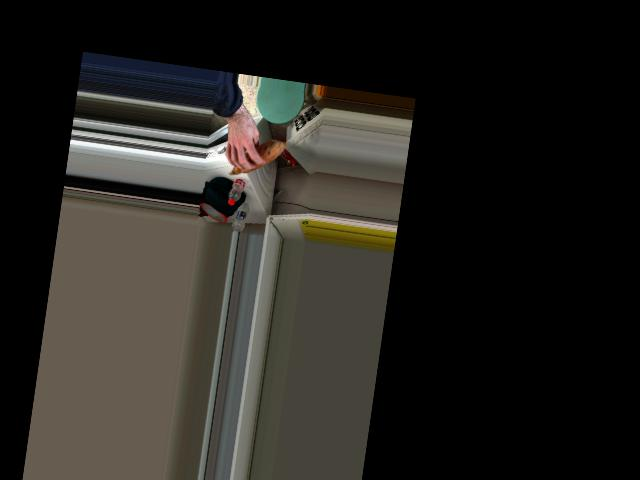sweet_potato: (225, 135, 282, 179)
